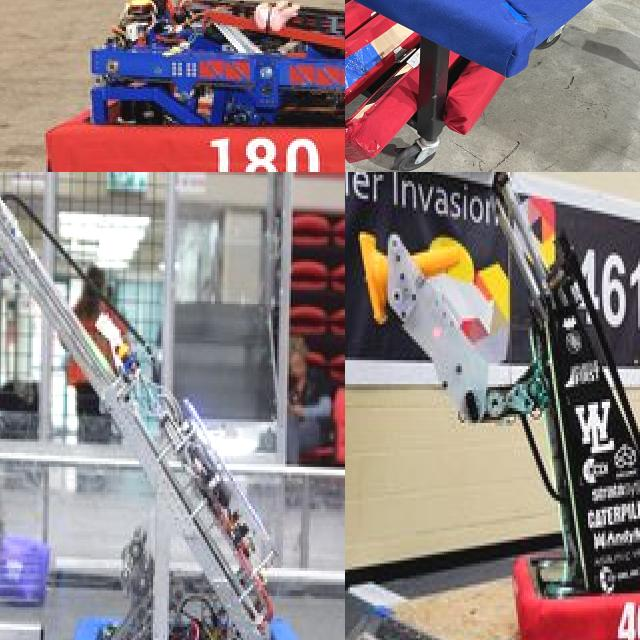FRC-Robots: (0, 172, 329, 640), (427, 172, 640, 640), (20, 0, 345, 172), (345, 0, 640, 69)
